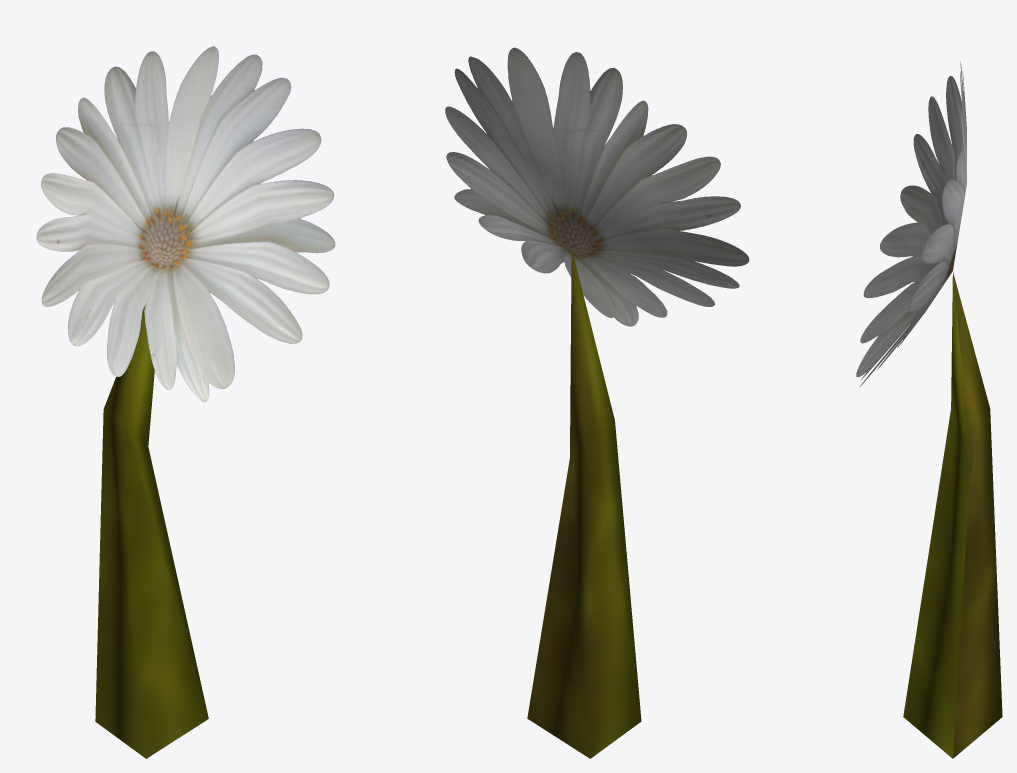
Rendered from daisy.fbx.
3 renders of one model, left to right at view 1: azimuth 30°, elevation 25°; view 2: azimuth 150°, elevation 25°; view 3: azimuth 270°, elevation 25°, orthographic. The views are drawn at different scales.
Visible parts, largest first — view 1: Daisy; view 2: Daisy; view 3: Daisy.
Part boxes in pixels (box(x1,y1,x2,y2)): Daisy: box(36, 46, 335, 758); Daisy: box(445, 47, 749, 758); Daisy: box(856, 61, 1002, 758).
Bounding box in the file's own units: 33.79 × 82.53 × 143.
